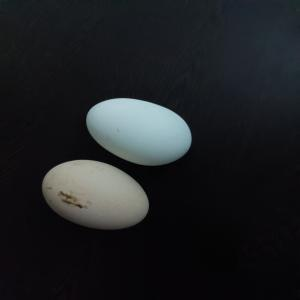Egg: (36, 158, 157, 238), (84, 94, 202, 172)
